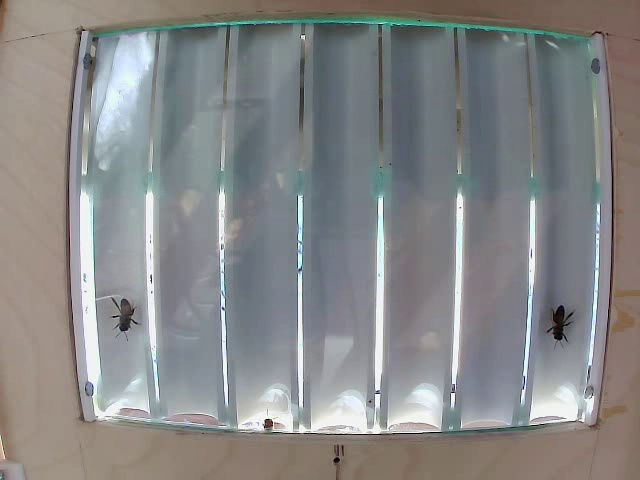bee: (104, 296, 145, 333), (545, 302, 573, 342)
